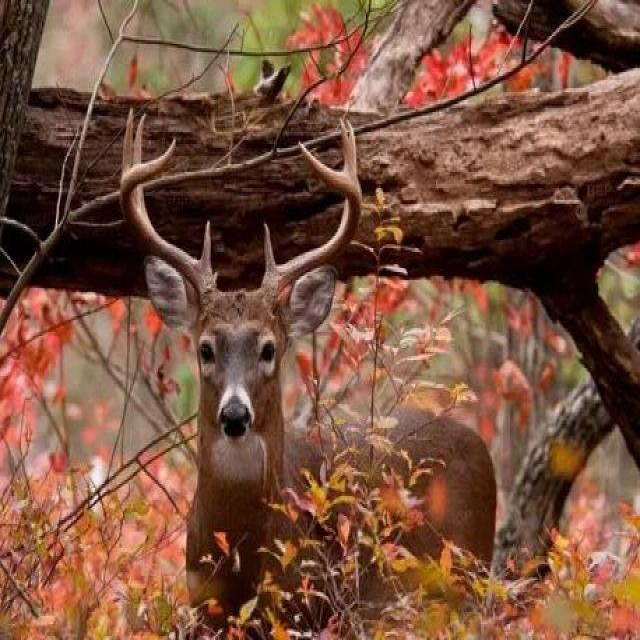deer: (108, 90, 504, 583)
